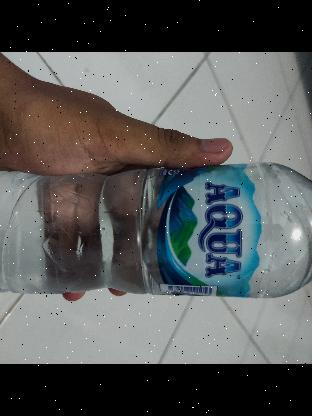Plastic Bottle: (0, 157, 312, 309)
